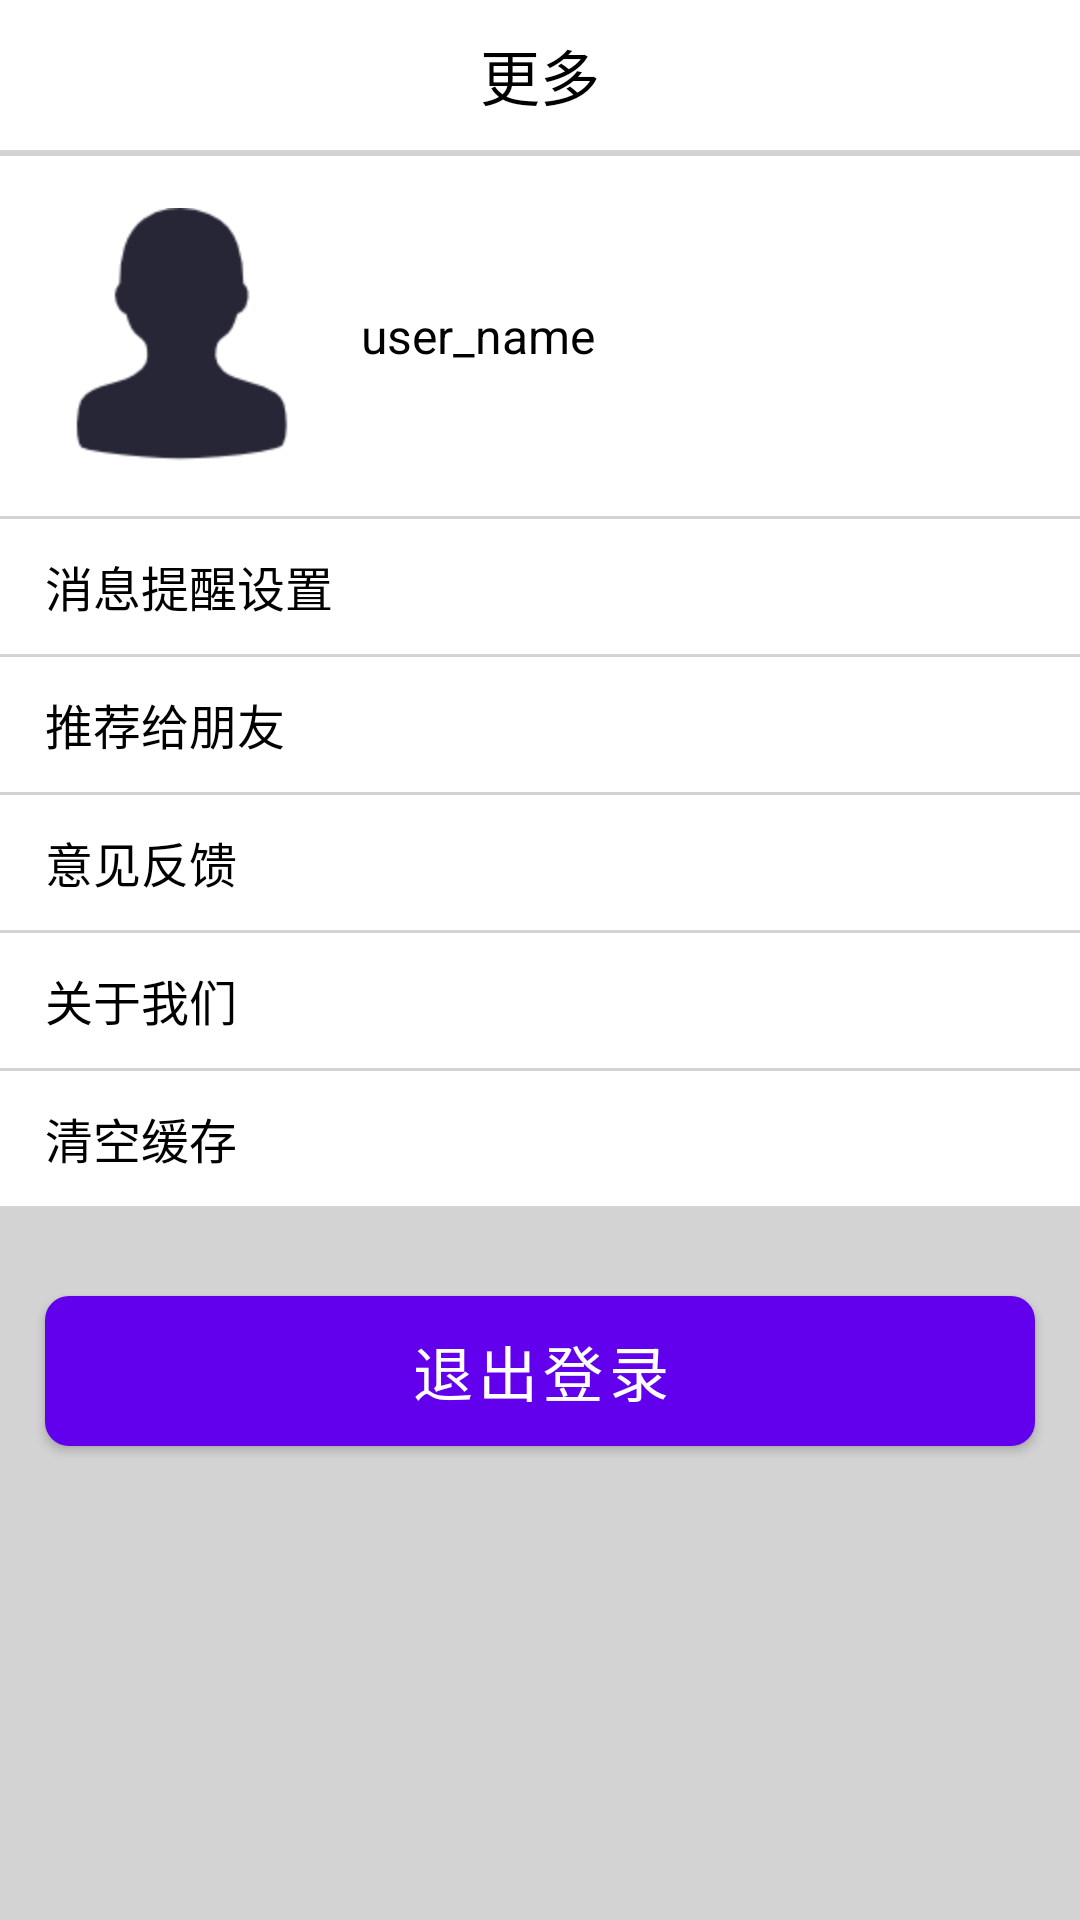

Named icons in this screenshot (1080w x 1920h) and their bounding boxes, (x1, y1, x2, y2):
Portrait: (76, 208, 288, 460)
